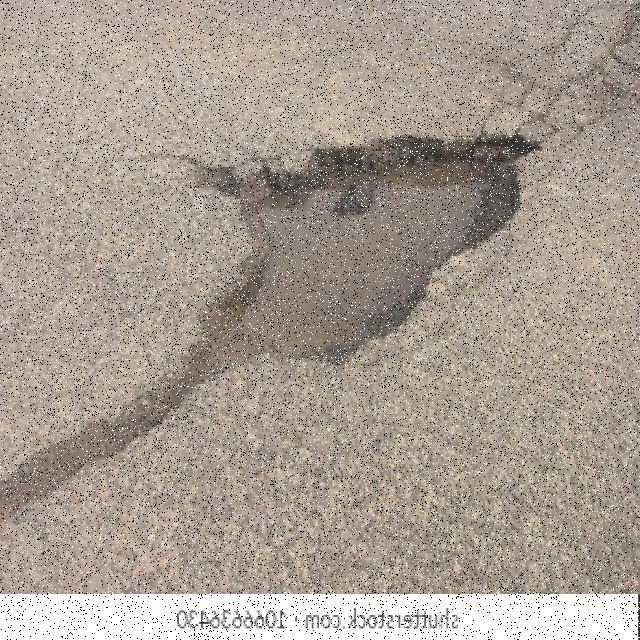Pothole: (0, 136, 542, 525)
